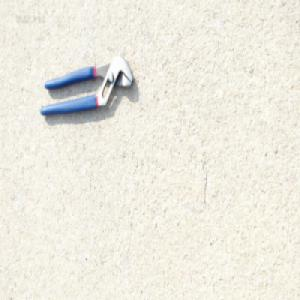Pliers: (39, 55, 133, 119)
